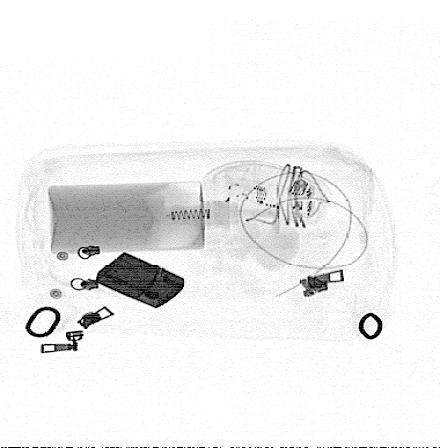Lighter: (96, 251, 186, 309)
